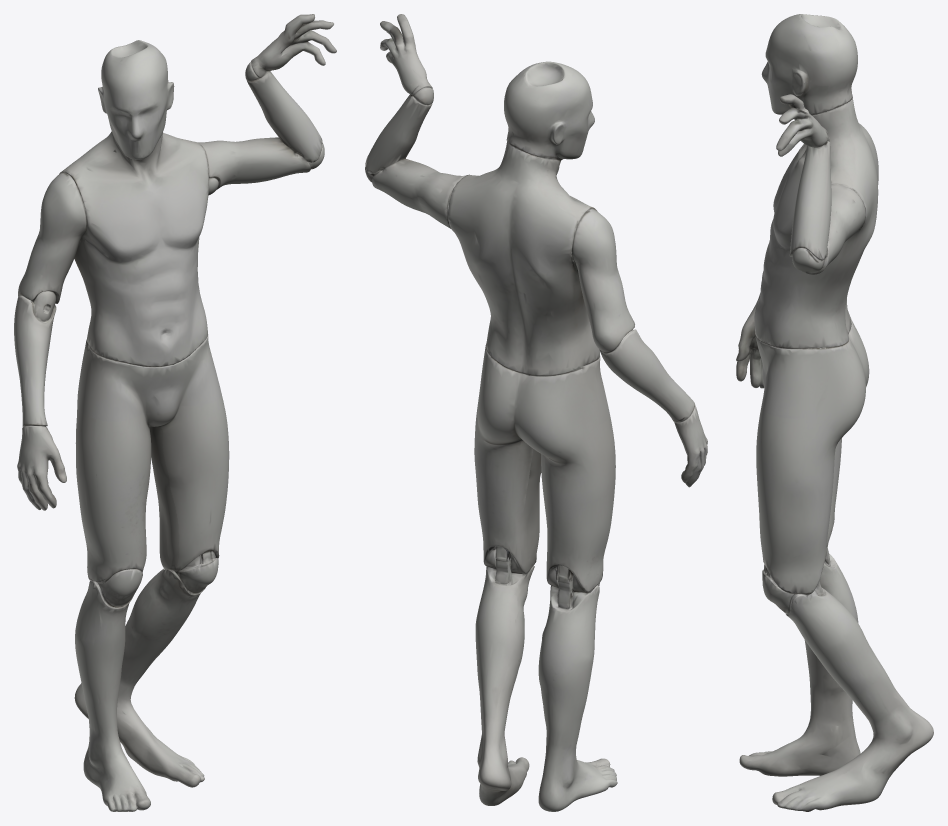
3 views of the same model, side by side, from view 1: azimuth 30°, elevation 25°; view 2: azimuth 150°, elevation 25°; view 3: azimuth 270°, elevation 25° (orthographic). The views are drawn at different scales.
Parts seen in each view (by area): view 1: node_0; view 2: node_0; view 3: node_0.
Part boxes in pixels (x1,y1,x2,y2): node_0: (14,14,336,811); node_0: (365,14,707,811); node_0: (736,14,933,811).
Bounding box in the file's own units: 0.5048 × 1.11 × 0.2583.
Materials: 1 (1 with a texture image).
